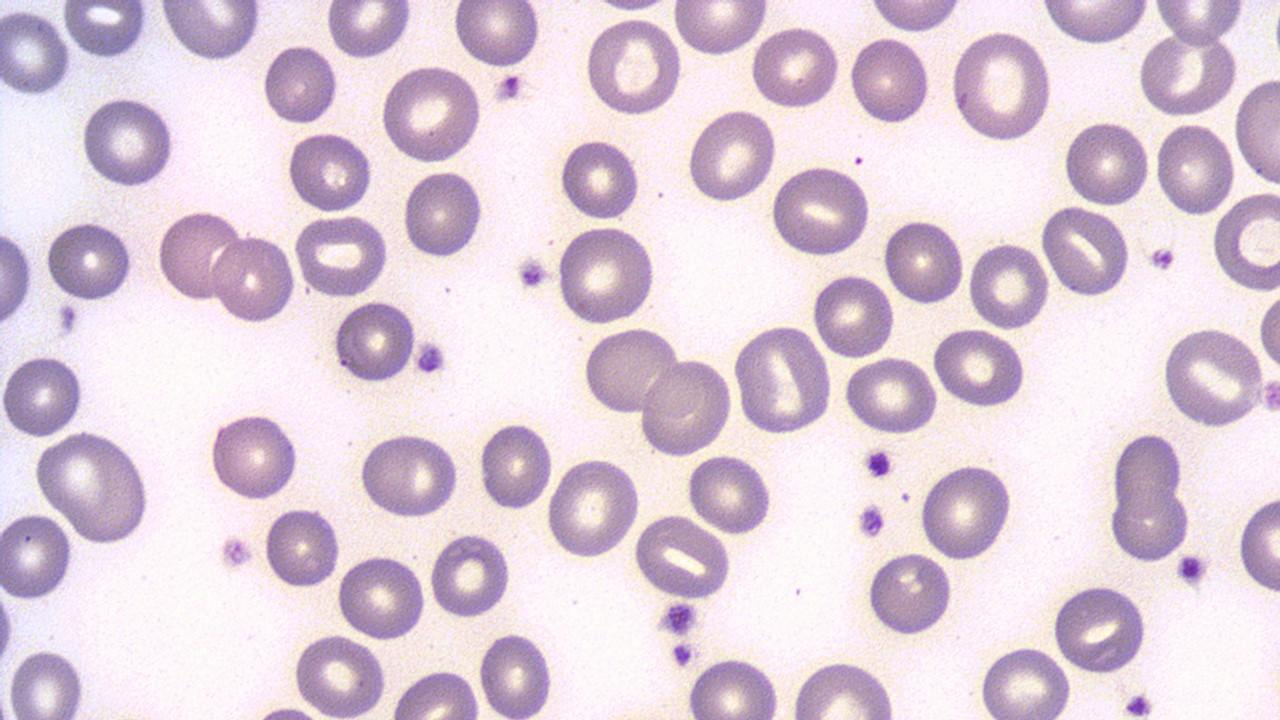Platelets: (658, 600, 700, 640), (1174, 548, 1212, 590), (512, 254, 550, 294), (412, 337, 448, 379), (854, 501, 886, 540), (1119, 688, 1157, 718), (862, 448, 895, 480), (1256, 374, 1280, 417), (494, 74, 526, 104), (668, 638, 698, 670)
RBC: (29, 427, 155, 546), (1158, 324, 1270, 430), (950, 29, 1054, 142), (732, 321, 834, 435), (581, 15, 686, 118), (555, 223, 658, 327), (379, 63, 483, 165), (916, 458, 1016, 562), (543, 455, 641, 561), (767, 163, 874, 258), (356, 428, 464, 520), (79, 93, 178, 190), (638, 356, 734, 456), (685, 106, 780, 205), (1050, 580, 1150, 674), (1137, 27, 1239, 118), (578, 326, 680, 417), (1039, 202, 1135, 298), (631, 514, 734, 602), (208, 408, 302, 504), (291, 211, 392, 298), (335, 550, 428, 642), (1152, 119, 1236, 220), (210, 230, 298, 326), (156, 206, 242, 304), (841, 354, 941, 438), (289, 632, 388, 716), (864, 547, 955, 638), (400, 166, 485, 262), (1060, 117, 1150, 207), (750, 22, 842, 110), (809, 269, 896, 362), (881, 214, 966, 309), (930, 327, 1028, 409), (44, 216, 136, 303), (847, 33, 932, 126), (968, 238, 1052, 332), (332, 296, 418, 387), (1, 350, 86, 442), (686, 450, 774, 538), (286, 128, 375, 215), (428, 528, 512, 620), (477, 417, 556, 514), (978, 640, 1074, 718), (477, 626, 556, 719), (558, 135, 642, 222), (1212, 188, 1280, 294), (0, 508, 75, 604), (262, 502, 342, 590), (1106, 486, 1194, 565), (0, 4, 72, 99), (260, 41, 339, 126), (788, 657, 898, 717), (683, 654, 785, 718), (1111, 428, 1183, 518), (450, 0, 540, 71), (2, 644, 89, 716), (158, 3, 262, 60), (670, 1, 770, 60), (1232, 73, 1280, 188), (324, 2, 414, 63), (61, 0, 148, 61), (386, 666, 482, 718), (1234, 490, 1280, 598), (1041, 1, 1151, 45), (1152, 1, 1244, 46), (0, 217, 35, 332), (866, 0, 964, 34), (0, 574, 18, 692), (1256, 288, 1280, 373)
